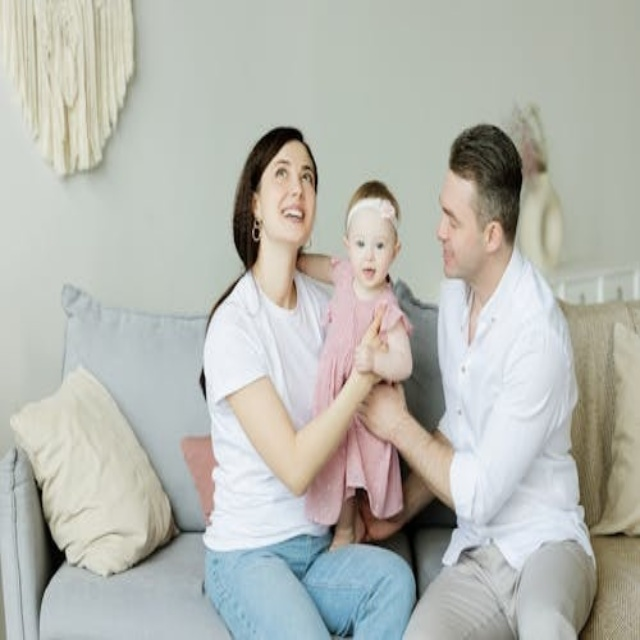Sin_gafas: (438, 188, 475, 244), (274, 161, 315, 190), (348, 233, 392, 254)
Sin_guantes: (353, 375, 413, 449), (352, 304, 395, 380)
Sin_mascara: (439, 242, 463, 275), (281, 205, 306, 222), (362, 267, 376, 278)
